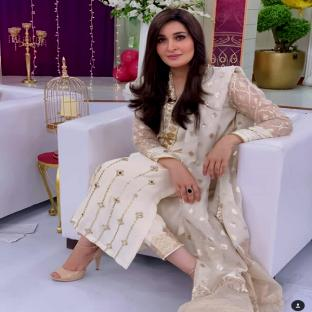Human: (51, 9, 293, 312)
